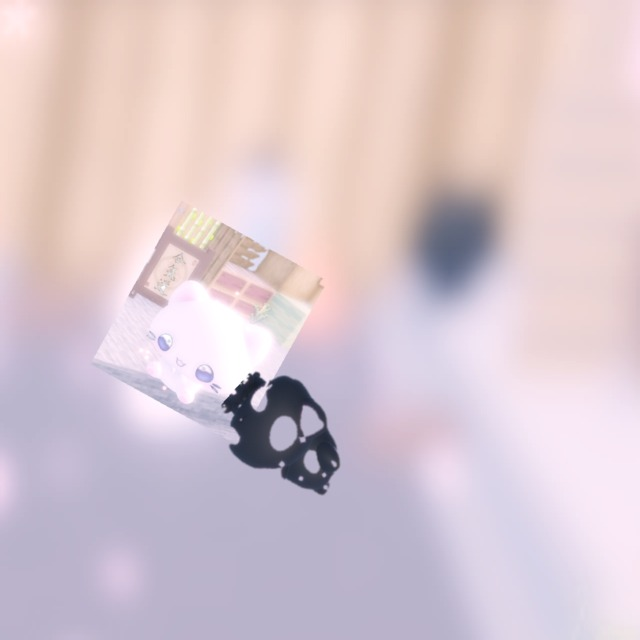urso_branco: (90, 200, 328, 445)
urso_preto: (195, 349, 380, 531)
